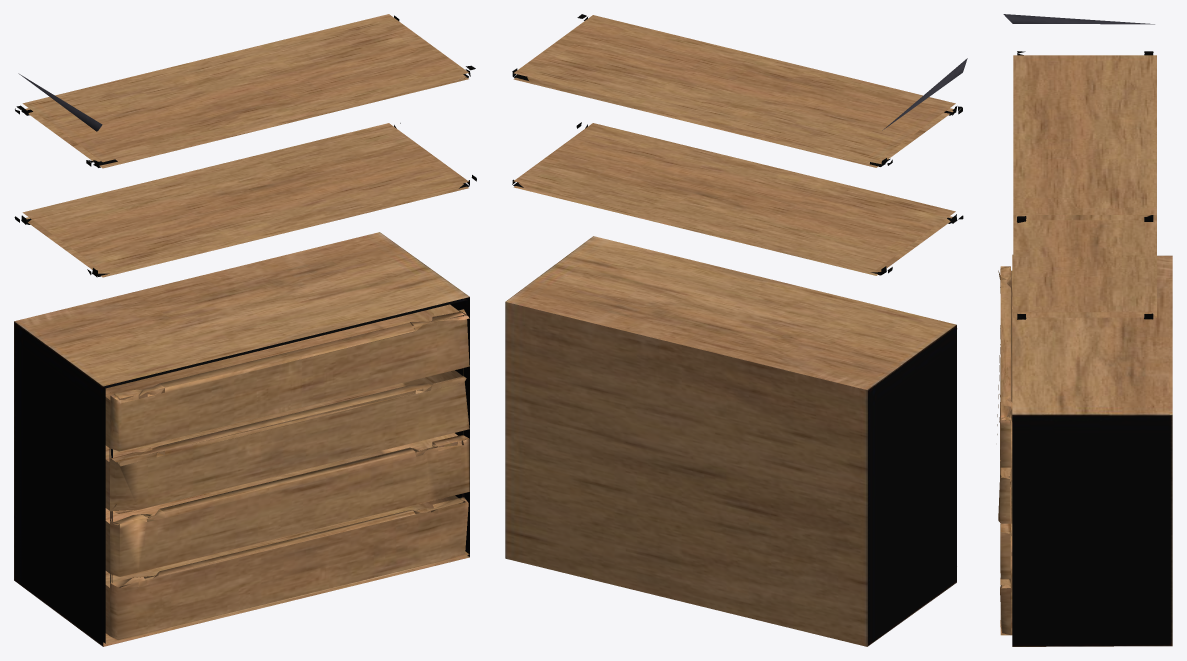
File: drawers.glb
The picture shows the model from 3 angles, left to right: view 1: azimuth 30°, elevation 25°; view 2: azimuth 150°, elevation 25°; view 3: azimuth 270°, elevation 25°; orthographic projection. The views are drawn at different scales.
Parts seen in each view (by area): view 1: drawer_cabinet; view 2: drawer_cabinet; view 3: drawer_cabinet.
Part boxes in pixels (x1,y1,x2,y2): drawer_cabinet: (14,14,476,646); drawer_cabinet: (505,14,967,646); drawer_cabinet: (997,14,1172,646).
Bounding box in the file's own units: 1.13 × 1.47 × 0.4996.
1 material, 1 textured.
